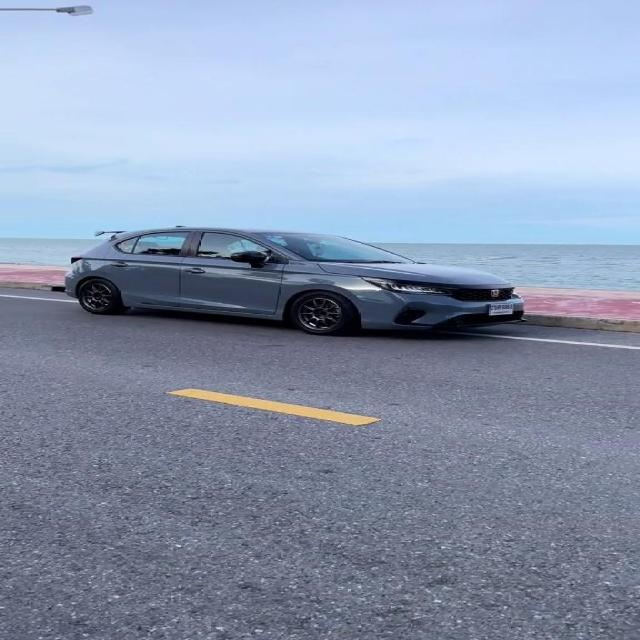Hatchback: (64, 226, 523, 336)
